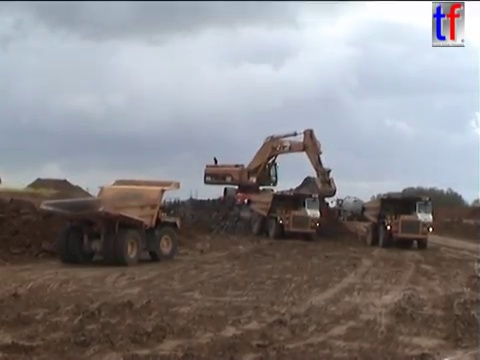excavator: (202, 126, 339, 209), (215, 189, 298, 216)
truck: (38, 177, 182, 266), (359, 194, 435, 251), (243, 190, 321, 239), (328, 194, 366, 220)
